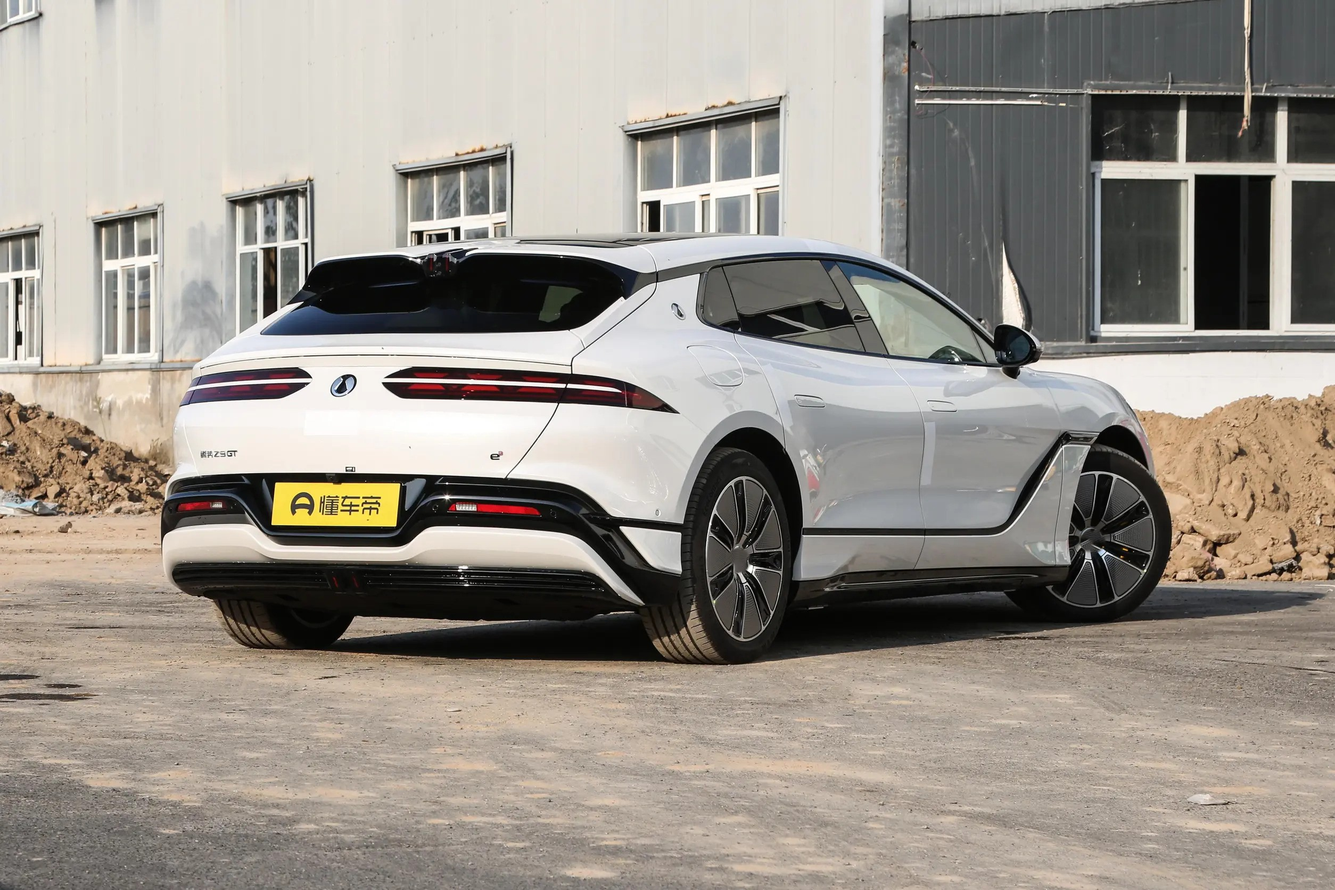DENZA: (332, 377, 354, 395)
